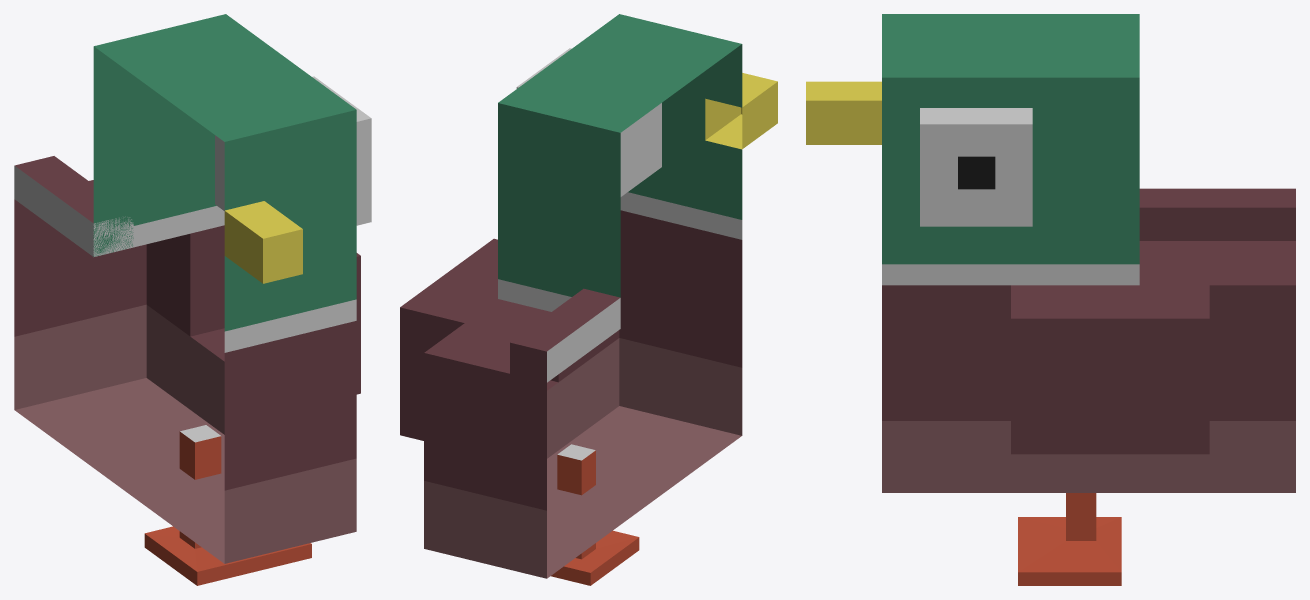
File: bird_closed.dae
3 views of the same model, side by side, from view 1: azimuth 30°, elevation 25°; view 2: azimuth 150°, elevation 25°; view 3: azimuth 270°, elevation 25° (orthographic). The views are drawn at different scales.
Visible parts, largest first — view 1: Cube_001; view 2: Cube_001; view 3: Cube_001.
Boxes of the visible parts, x1,y1,x2,y2 form: Cube_001: (14,14,371,585); Cube_001: (400,14,777,585); Cube_001: (806,14,1295,585).
Size of the model in its own units: 1 by 2.14 by 2.39.
